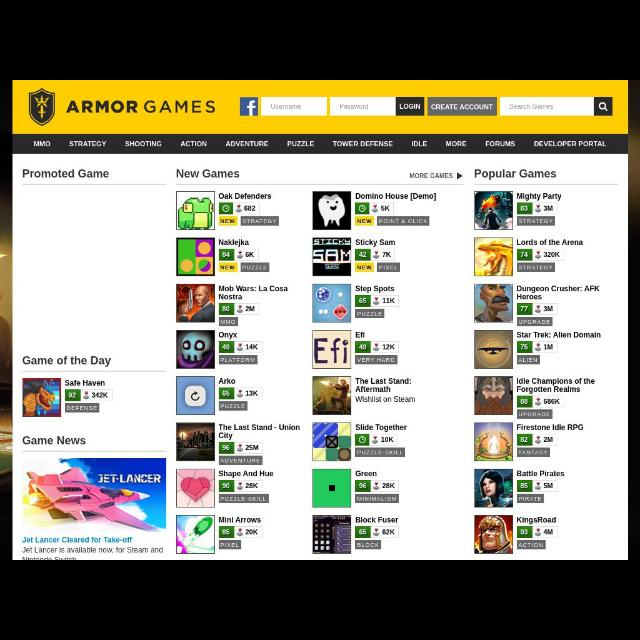button: (595, 98, 611, 116)
icon: (456, 170, 462, 182)
image: (21, 458, 166, 530), (473, 284, 512, 324), (176, 191, 216, 229), (176, 377, 216, 415), (177, 422, 215, 462), (475, 190, 513, 230), (313, 423, 352, 461), (475, 423, 513, 462), (474, 469, 514, 506), (176, 238, 214, 276), (176, 330, 214, 368), (176, 470, 214, 508), (313, 193, 351, 231), (313, 331, 351, 369), (313, 377, 351, 415), (313, 470, 351, 508), (313, 515, 351, 553), (475, 238, 513, 276), (475, 329, 513, 367), (475, 377, 513, 415), (475, 516, 513, 554), (22, 379, 62, 415), (314, 283, 351, 321), (178, 516, 216, 552), (312, 239, 350, 275), (178, 284, 214, 320), (27, 89, 57, 125), (240, 97, 258, 117)
input: (499, 97, 593, 115), (331, 96, 395, 115), (263, 97, 327, 115)
link: (24, 536, 134, 544)
multitab: (12, 136, 628, 154)
text: (65, 100, 217, 116), (22, 547, 162, 559), (516, 283, 600, 301), (218, 424, 300, 440), (515, 377, 597, 393), (22, 354, 112, 368), (24, 168, 110, 180), (473, 167, 557, 179), (357, 376, 413, 394), (218, 286, 288, 300), (175, 169, 242, 181), (20, 434, 86, 446), (516, 332, 602, 341), (357, 191, 438, 199), (516, 423, 586, 431), (516, 468, 566, 479), (516, 238, 584, 246), (332, 140, 392, 148), (356, 284, 396, 296), (356, 396, 414, 404), (408, 170, 454, 180), (69, 138, 107, 150), (218, 515, 262, 525), (518, 191, 562, 201), (534, 142, 606, 148), (219, 470, 273, 478), (355, 239, 397, 249), (516, 516, 558, 526), (220, 192, 272, 200), (356, 424, 408, 432), (66, 377, 106, 387), (508, 103, 554, 111), (225, 139, 269, 147), (356, 516, 398, 524), (125, 140, 163, 148), (486, 138, 516, 148), (219, 238, 249, 248), (180, 140, 208, 150), (272, 103, 302, 111), (288, 140, 314, 148), (357, 469, 377, 479), (340, 104, 370, 110), (445, 140, 467, 148), (220, 378, 238, 386), (220, 331, 237, 339), (409, 140, 428, 146), (34, 140, 50, 146), (354, 330, 366, 338)
textbutton: (429, 97, 497, 115), (378, 216, 430, 227), (396, 97, 424, 115), (357, 448, 405, 458), (355, 354, 399, 364), (355, 494, 399, 504), (220, 495, 268, 503), (518, 216, 556, 226), (219, 456, 263, 464), (66, 404, 100, 414), (518, 448, 550, 458), (518, 409, 552, 418), (240, 217, 278, 225), (220, 357, 256, 365), (517, 318, 553, 326), (518, 263, 554, 271), (355, 310, 385, 318), (220, 402, 248, 410), (516, 495, 544, 503), (220, 540, 242, 550), (242, 264, 268, 272), (518, 541, 544, 549), (356, 541, 380, 549), (516, 356, 540, 364), (355, 262, 373, 272), (378, 263, 400, 271), (220, 217, 238, 226), (219, 317, 237, 325), (357, 217, 373, 226), (221, 263, 235, 271)
toolbar: (17, 82, 628, 134)
